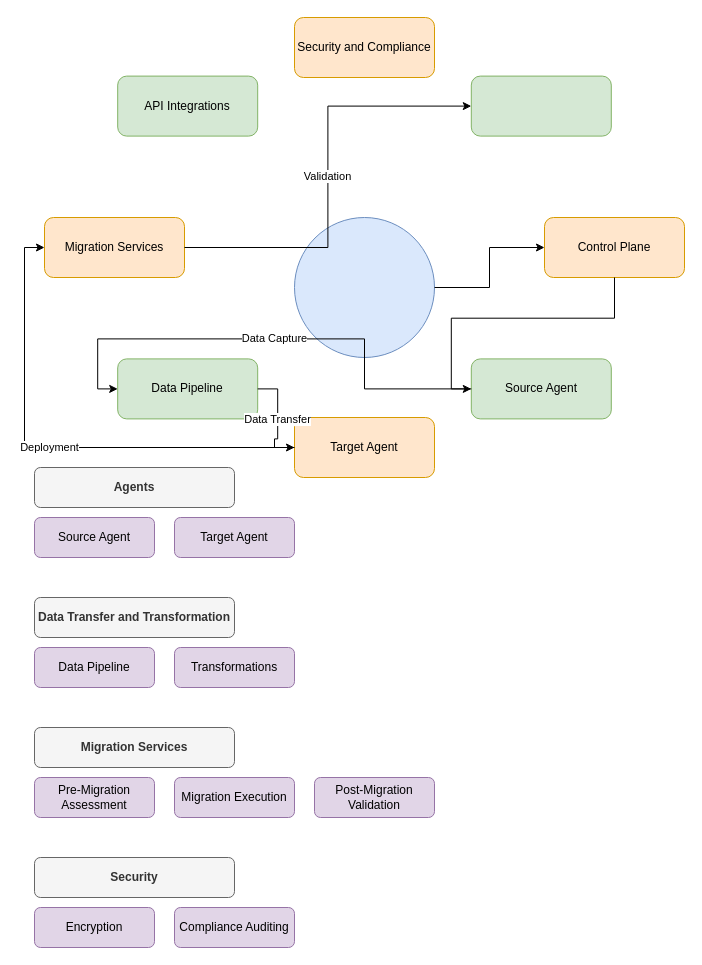
Some shapes in this 702 by 965 pixel diagram are drawn without their labels. The centre of each missing label's shape, as x and y in pixels:
Monitoring and Reporting: the point at 540,105
RiverMeadow Platform: the point at 364,287
